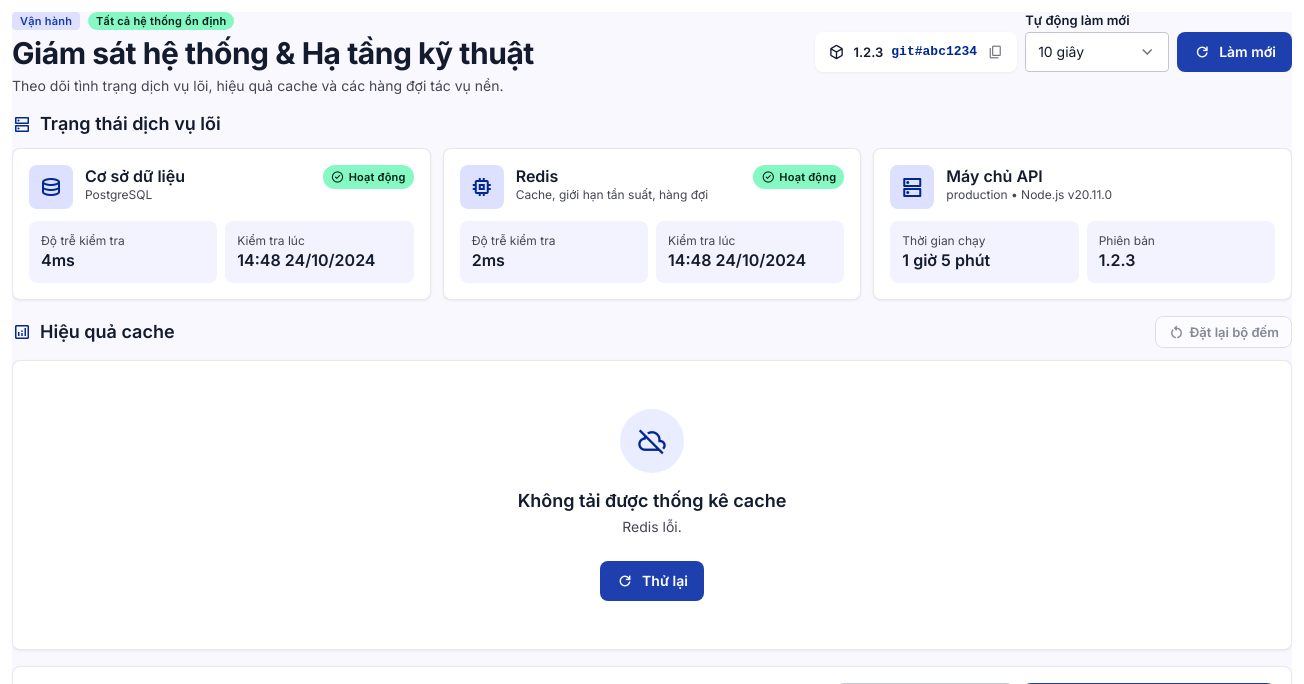
Test: SystemMonitorPage › thống kê cache lỗi → chỉ khối cache lỗi, "Thử lại" tải lại
The image size is (1304, 684).
Expected: the heading "Không tải được thống kê cache" is shown, [518,489,786,513]
Expected: the element "Cơ sở dữ liệu" shows "Hoạt động", [349,170,406,184]
What coordinates should you click on to do the following:
click the button "Thử lại"
I would click on:
 (652, 581)
Its box is [600,561,704,601].
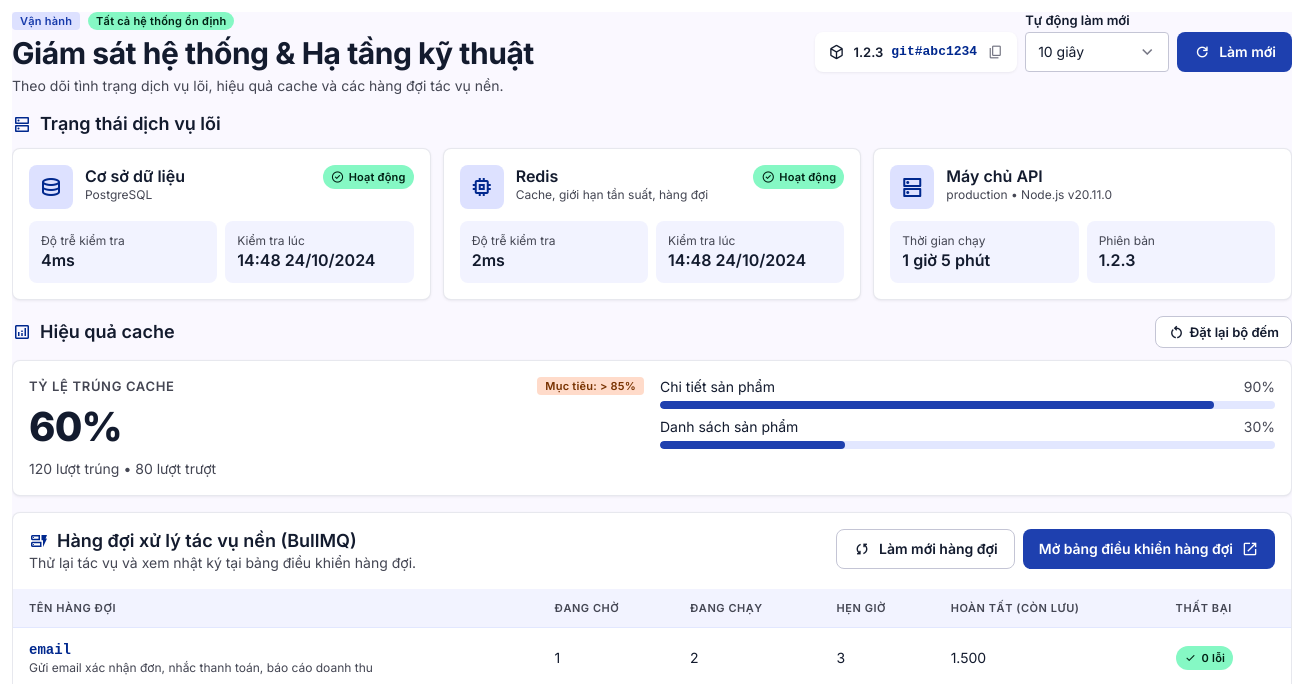
Expected: the text "60%" is shown, [29,402,122,451]
